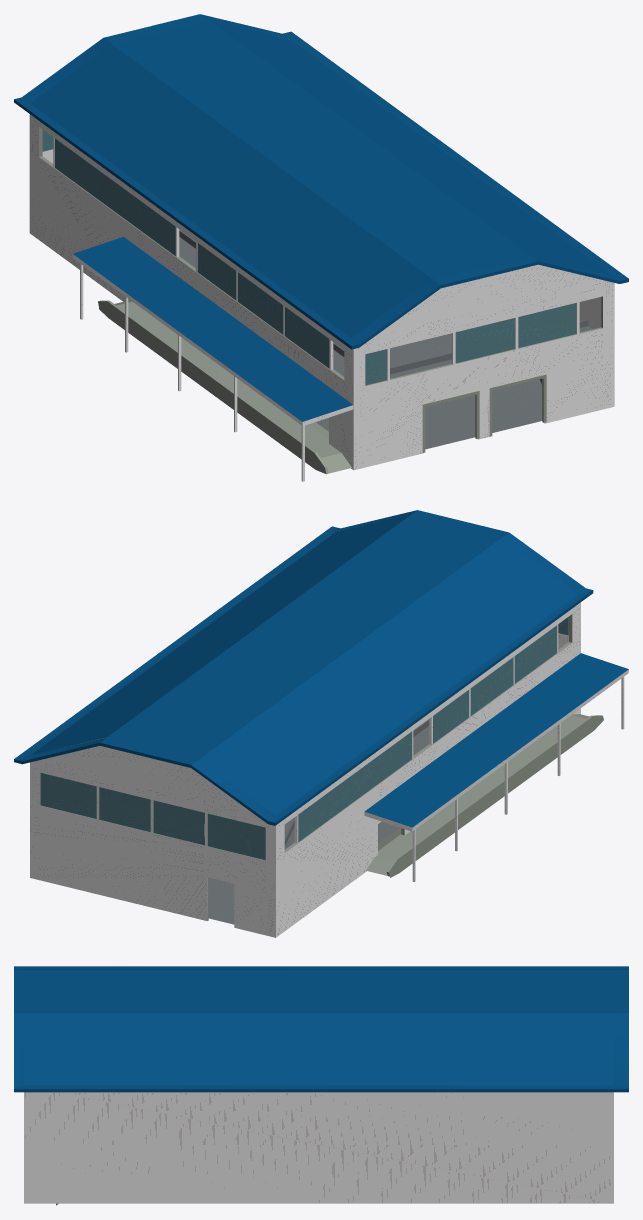
Rendered from BGN_PORT HANGAR.fbx.
3 renders of one model, top to bottom at view 1: azimuth 30°, elevation 25°; view 2: azimuth 150°, elevation 25°; view 3: azimuth 270°, elevation 25°, orthographic. The views are drawn at different scales.
Parts seen in each view (by area): view 1: BGN_PORT_HANGAR; view 2: BGN_PORT_HANGAR; view 3: BGN_PORT_HANGAR.
Boxes of the visible parts, bbox=[...] form: BGN_PORT_HANGAR: bbox=[14, 14, 628, 481]; BGN_PORT_HANGAR: bbox=[14, 510, 628, 937]; BGN_PORT_HANGAR: bbox=[14, 966, 628, 1205].
Bounding box in the file's own units: 2268 × 1186 × 4134.
